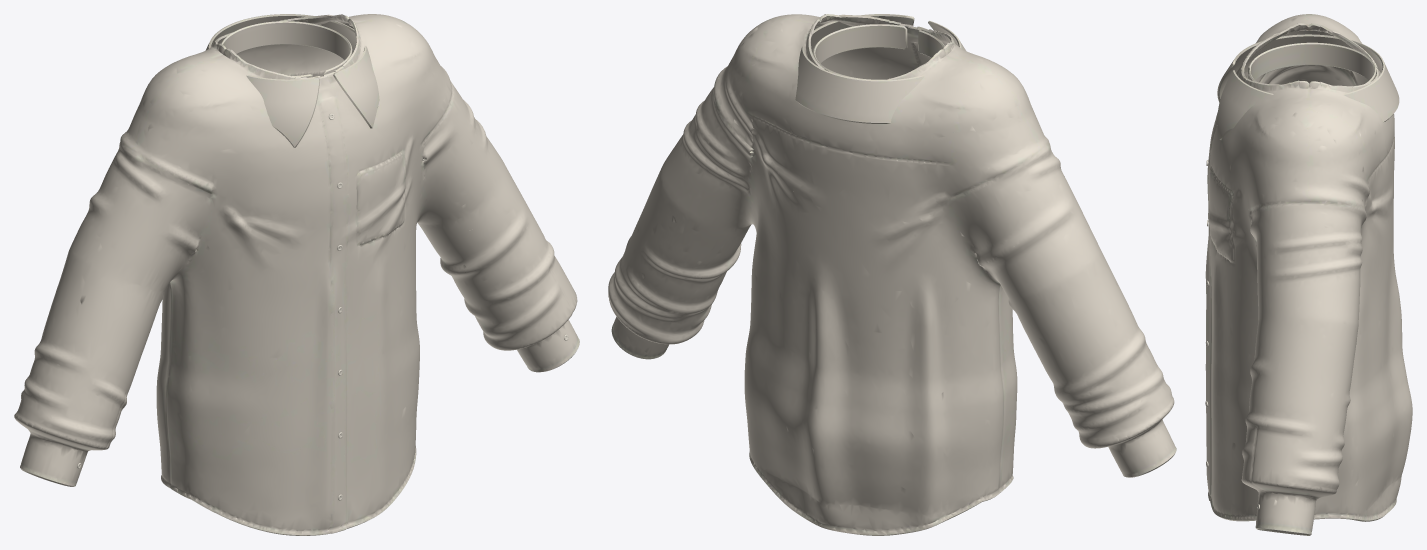
The model's file is 03_camisa_oversize_pbr.glb.
3 views of the same model, side by side, from view 1: azimuth 30°, elevation 25°; view 2: azimuth 150°, elevation 25°; view 3: azimuth 270°, elevation 25° (orthographic). The views are drawn at different scales.
Visible parts, largest first — view 1: Camiseta PBR; view 2: Camiseta PBR; view 3: Camiseta PBR.
Boxes of the visible parts, x1,y1,x2,y2 form: Camiseta PBR: (14,14,579,535); Camiseta PBR: (608,14,1176,535); Camiseta PBR: (1205,14,1412,535).
Bounding box in the file's own units: 1.03 × 0.8286 × 0.348.
Materials: 2 (1 with a texture image).
